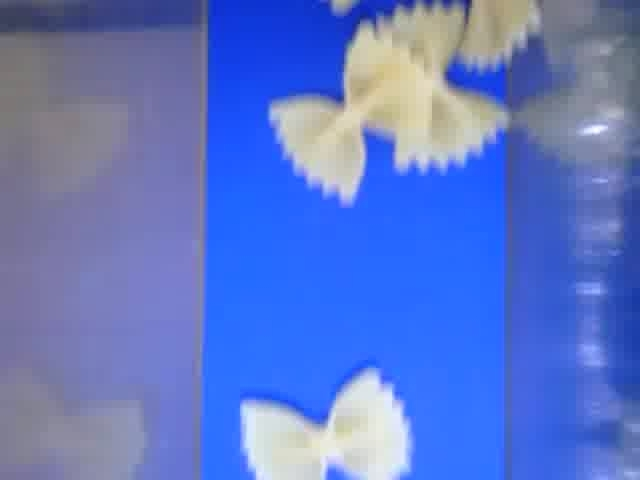farfalle: (269, 24, 430, 204), (368, 9, 515, 175), (238, 365, 411, 480), (455, 1, 539, 72)
